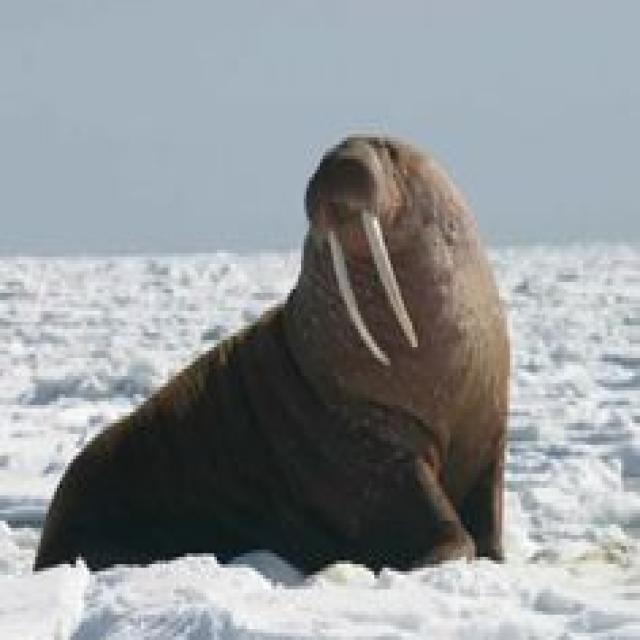Carnivorous: (33, 134, 513, 586)
